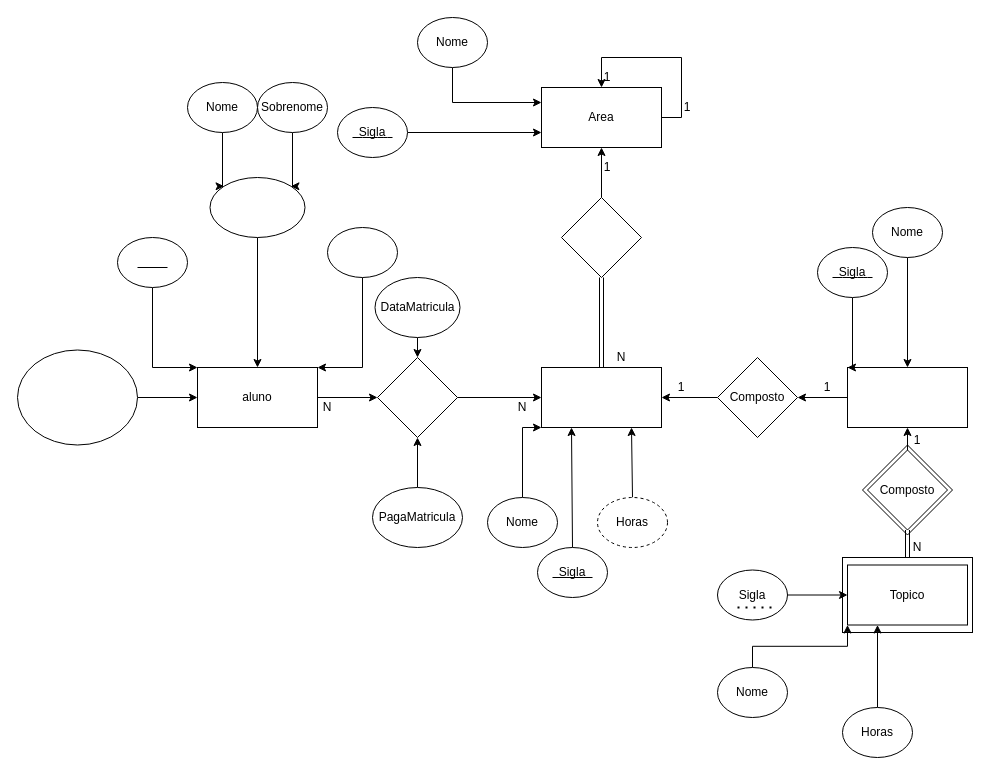
This 990x775 diagram has some shape labels left out. The centre of each missing label's shape, as x and y in pixels:
CPF: point (152, 262)
Cursos: point (601, 397)
DatadeNascimento: point (77, 397)
matricula: point (417, 397)
Modulo: point (907, 397)
NomeCompleto: point (257, 207)
Pertence: point (601, 237)
Sexo: point (362, 252)
